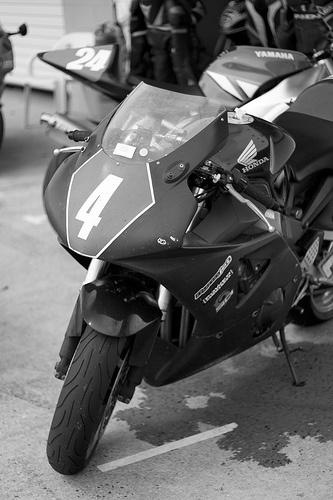motorbike: (40, 71, 333, 473), (33, 42, 331, 136)
